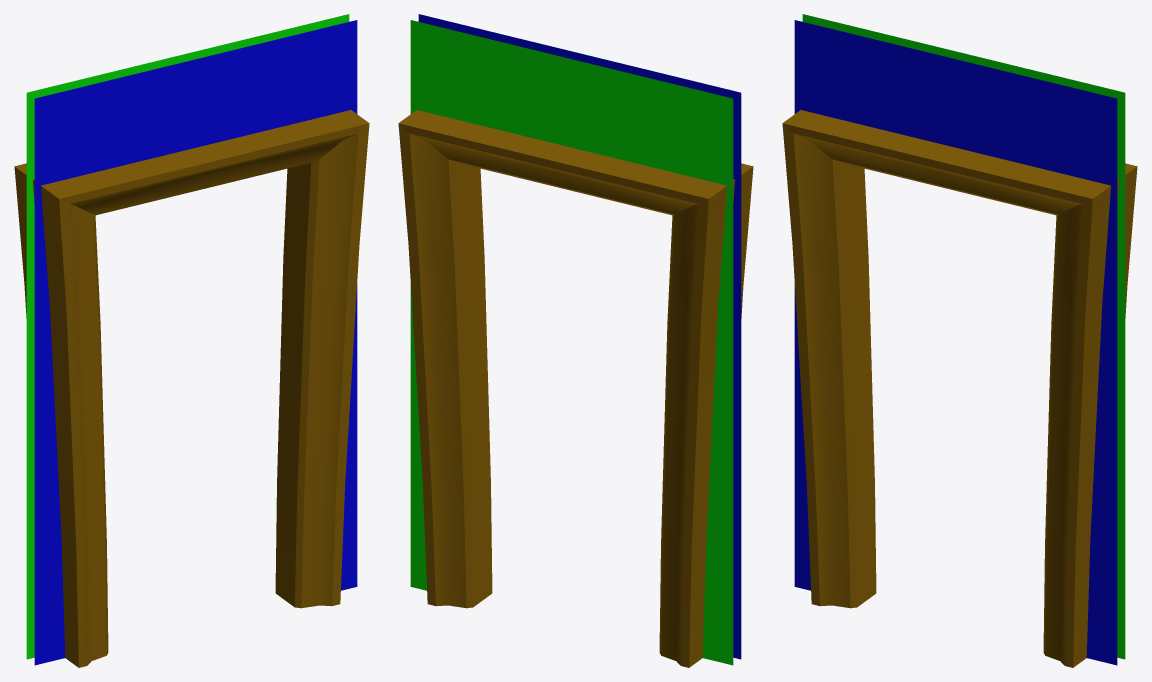
File: paredpuerta_corta.fbx
3 renders of one model, left to right at view 1: azimuth 30°, elevation 25°; view 2: azimuth 150°, elevation 25°; view 3: azimuth 330°, elevation 25°, orthographic.
Visible parts, largest first — view 1: paredpuerta_corta; view 2: paredpuerta_corta; view 3: paredpuerta_corta.
Part boxes in pixels (left/top/right/bottom): paredpuerta_corta: left=14, top=14, right=369, bottom=667; paredpuerta_corta: left=398, top=14, right=753, bottom=667; paredpuerta_corta: left=782, top=14, right=1137, bottom=667.
Bounding box in the file's own units: 155 × 260 × 37.09.
